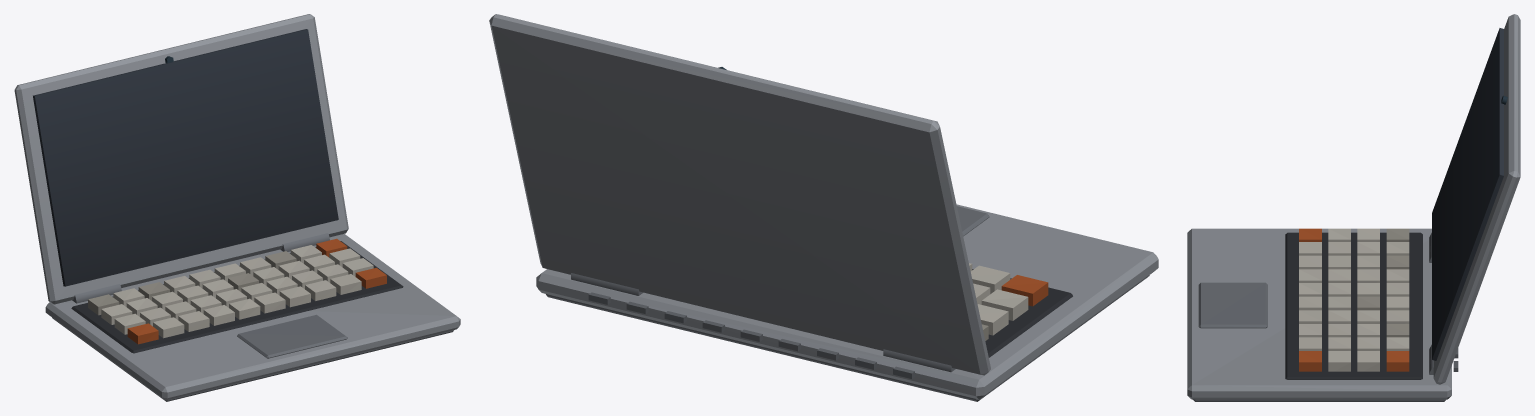
Rendered from laptop.glb.
3 views of the same model, side by side, from view 1: azimuth 30°, elevation 25°; view 2: azimuth 150°, elevation 25°; view 3: azimuth 270°, elevation 25° (orthographic). The views are drawn at different scales.
Visible parts, largest first — view 1: laptop; view 2: laptop; view 3: laptop.
Part boxes in pixels (<box>): laptop: <box>14,14,460,401</box>; laptop: <box>489,14,1158,401</box>; laptop: <box>1187,14,1520,401</box>.
Size of the model in its own units: 0.33 by 0.2236 by 0.2896.
